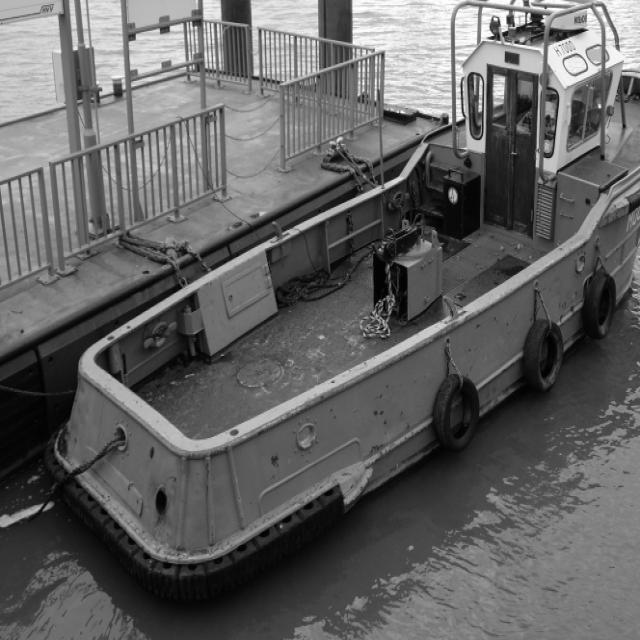tugboat: (39, 1, 640, 607)
